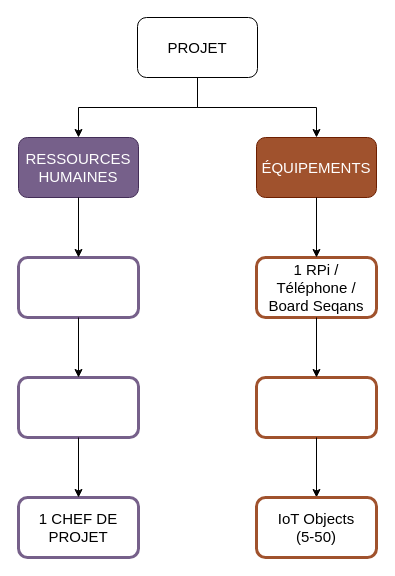
This 395x576 diagram has some shape labels left out. The centre of each missing label's shape, as x and y in pixels:
1 RÉSEAU: [78,407]
1 SERVER: [316,407]
2 DEV: [78,287]
